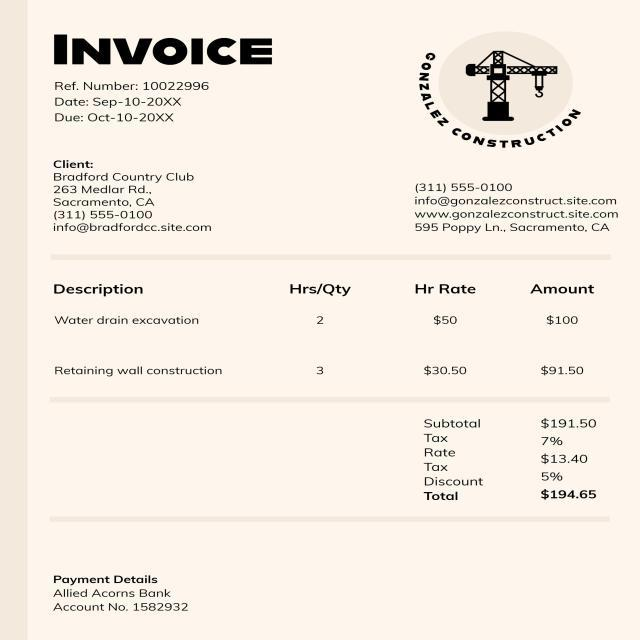ROI: (33, 267, 605, 390), (391, 32, 598, 151), (412, 399, 617, 518), (398, 166, 632, 245), (38, 149, 226, 240), (49, 26, 276, 69), (40, 565, 209, 622), (47, 73, 220, 128)
